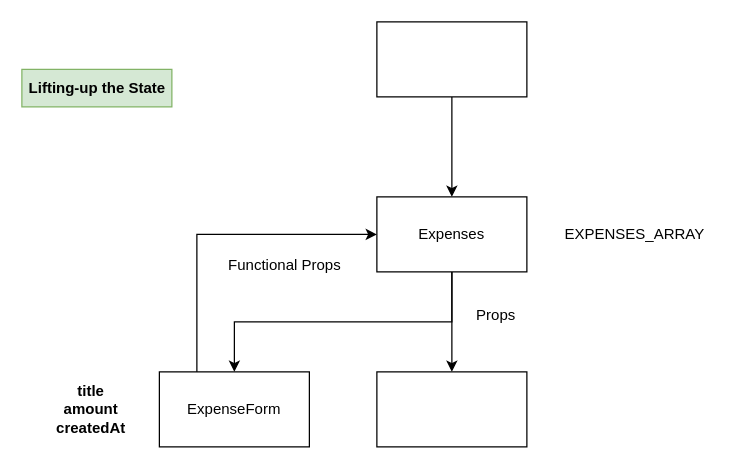
This 744x469 diagram has some shape labels left out. Each missing label, with the box of its shape:
App: (376, 21, 527, 97)
ExpenseItem: (376, 371, 527, 447)
